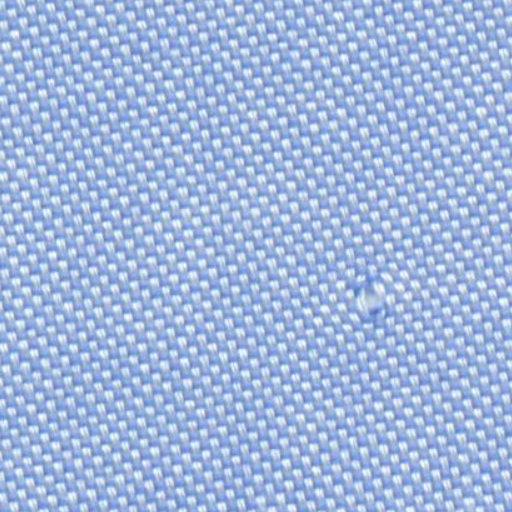PoDong: (336, 262, 406, 331)
